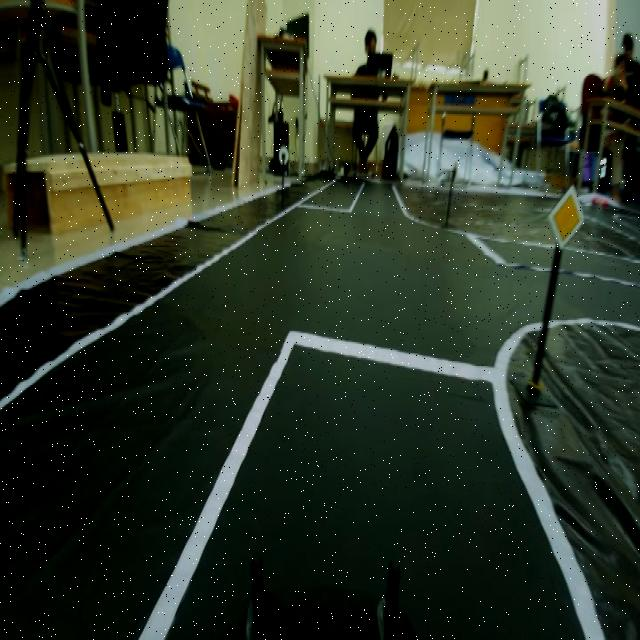priority: (547, 179, 587, 253)
